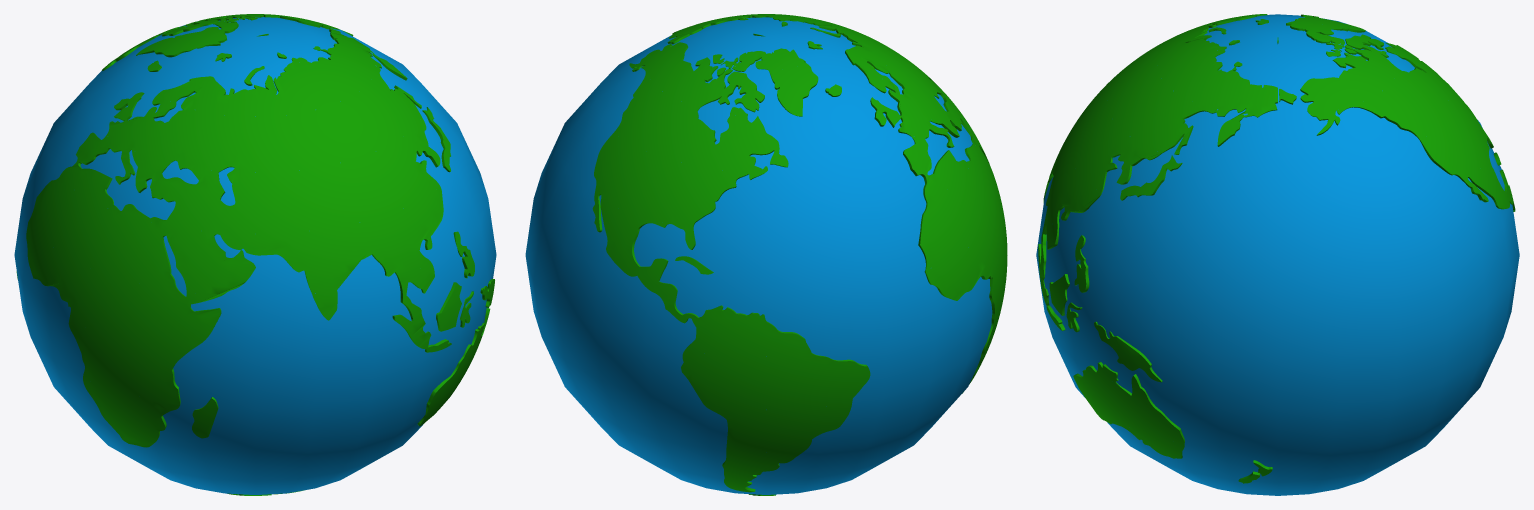
File: Extruded Earth.fbx
The picture shows the model from 3 angles, left to right: view 1: azimuth 30°, elevation 25°; view 2: azimuth 150°, elevation 25°; view 3: azimuth 270°, elevation 25°; orthographic projection.
Parts seen in each view (by area): view 1: Extruded, Earth.2; view 2: Earth.2, Extruded; view 3: Earth.2, Extruded.
Part boxes in pixels (x1,y1,x2,y2): Extruded: (16,14,494,495); Earth.2: (14,17,496,494); Earth.2: (525,17,992,494); Extruded: (592,14,1007,495); Earth.2: (1036,14,1519,495); Extruded: (1038,14,1515,483).
Bounding box in the file's own units: 1000 × 1000 × 1000.
